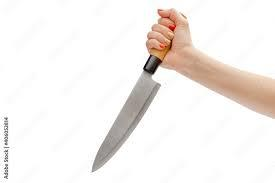Knife: (147, 8, 275, 120), (91, 56, 161, 173), (146, 7, 192, 72)
